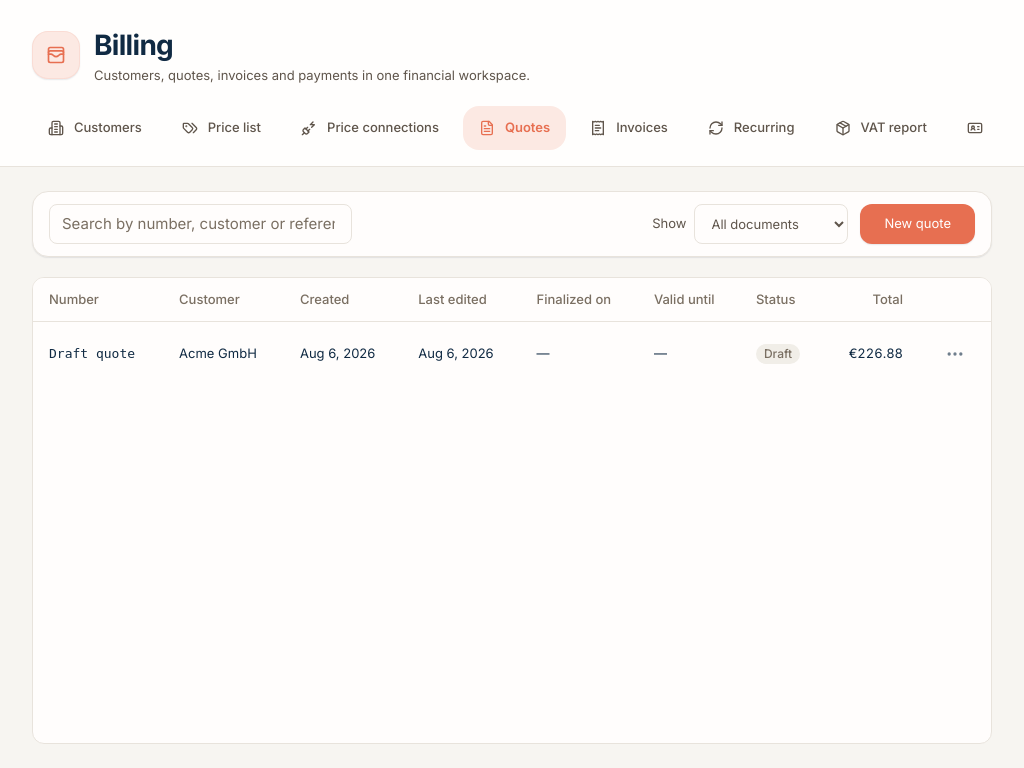
the quote list › deleting a draft from its row actions asks first and removes only that row
Click the button named "More actions": (955, 354) [935,334,975,374]
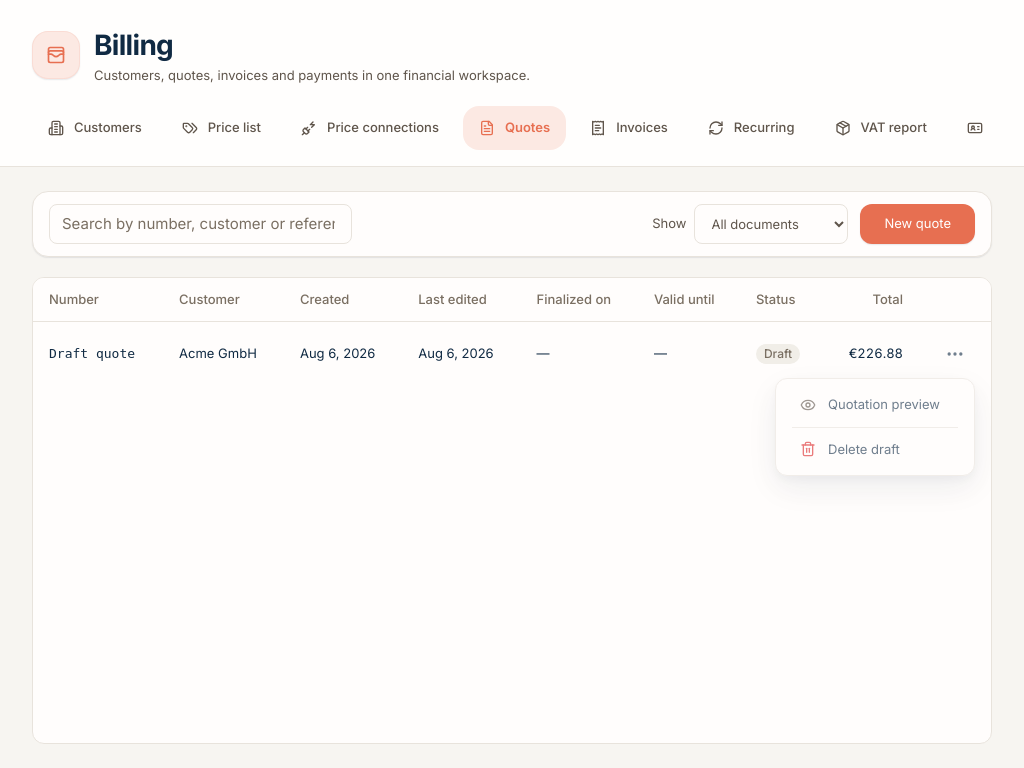
Click the menu item "Delete draft": (875, 449) [784,432,966,467]
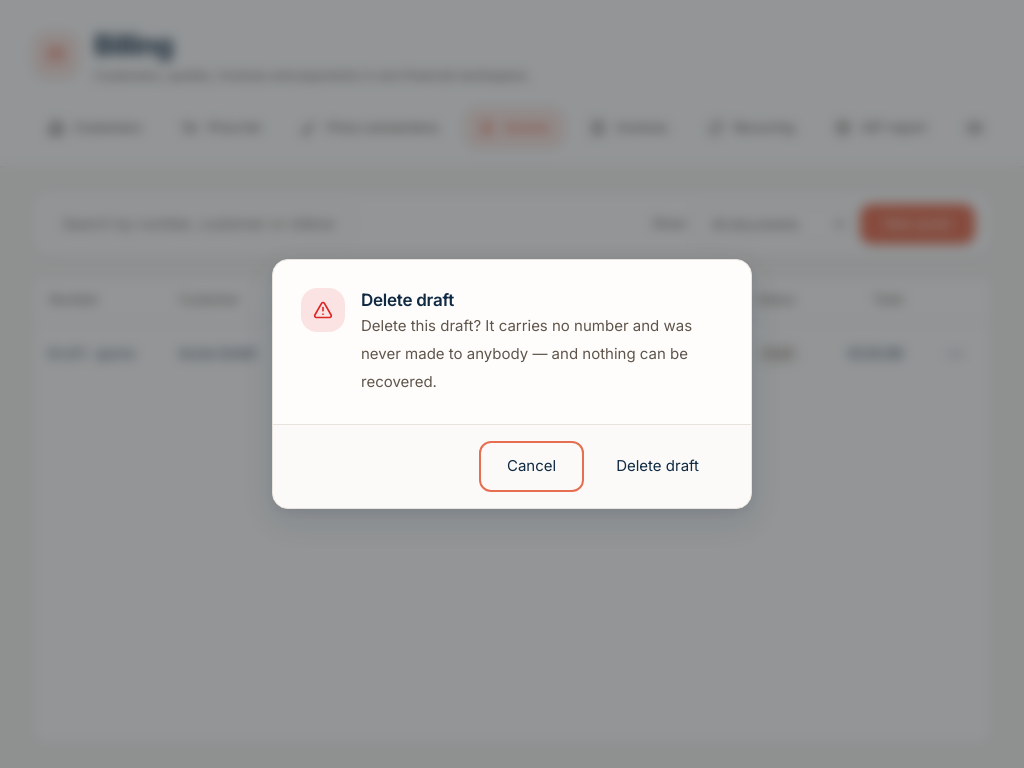
Check: the text "Delete this draft? It carries no number and was never made to anybody — and nothing can be recovered." is shown, box [361,316,696,391]
Click the button "Delete draft": (658, 467) [592,445,723,488]
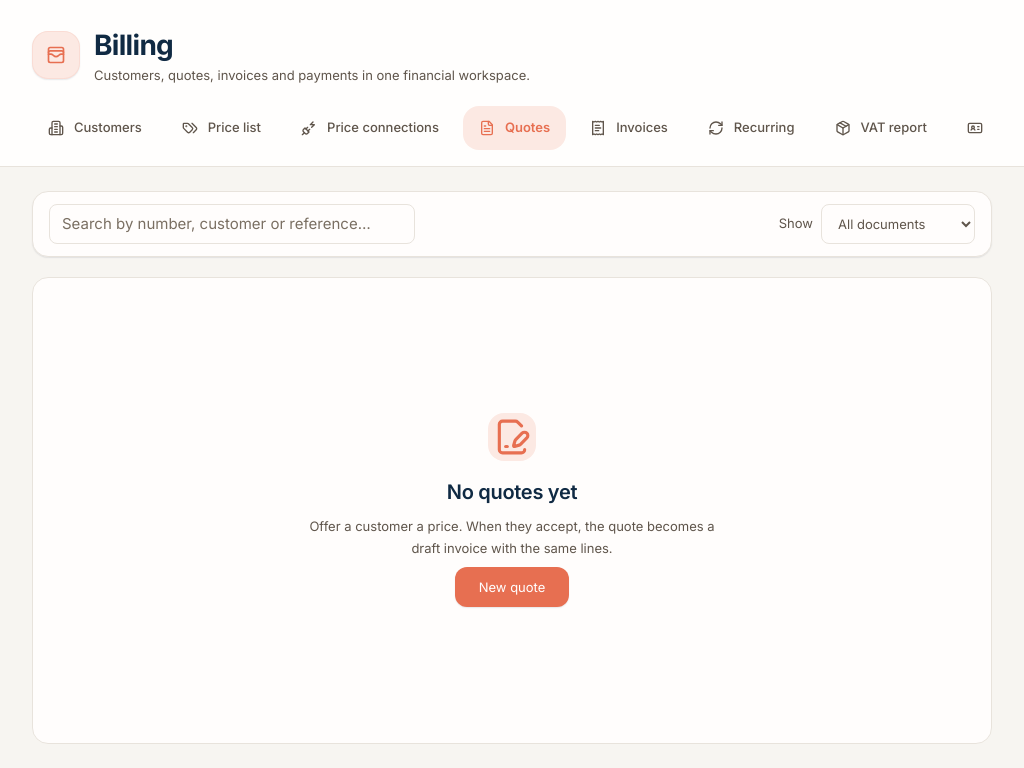
Check: the link "Draft quote" is gone
